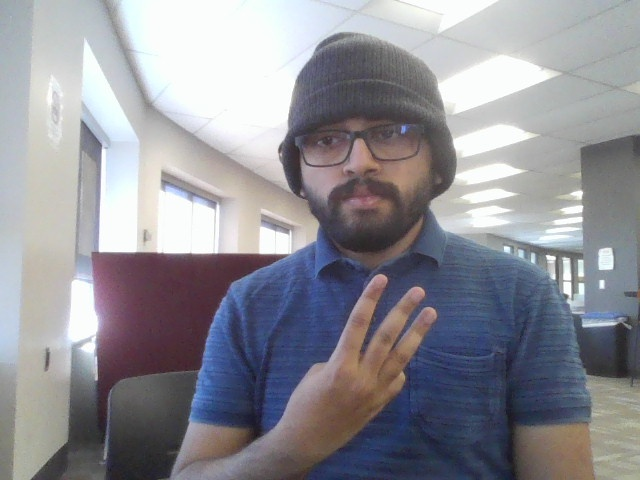start: (292, 272, 443, 454)
